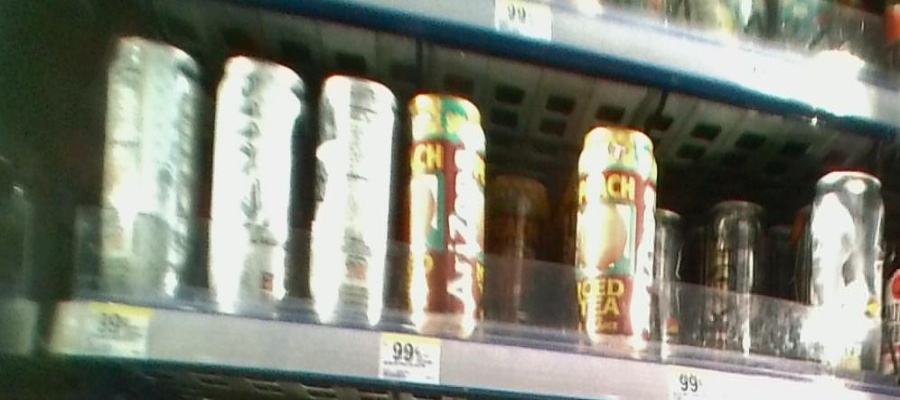bottle: (98, 32, 201, 304), (206, 49, 302, 318), (306, 55, 396, 333), (402, 72, 491, 341), (576, 126, 659, 355), (805, 161, 886, 381), (492, 155, 551, 346), (705, 194, 770, 358), (660, 200, 686, 354)
